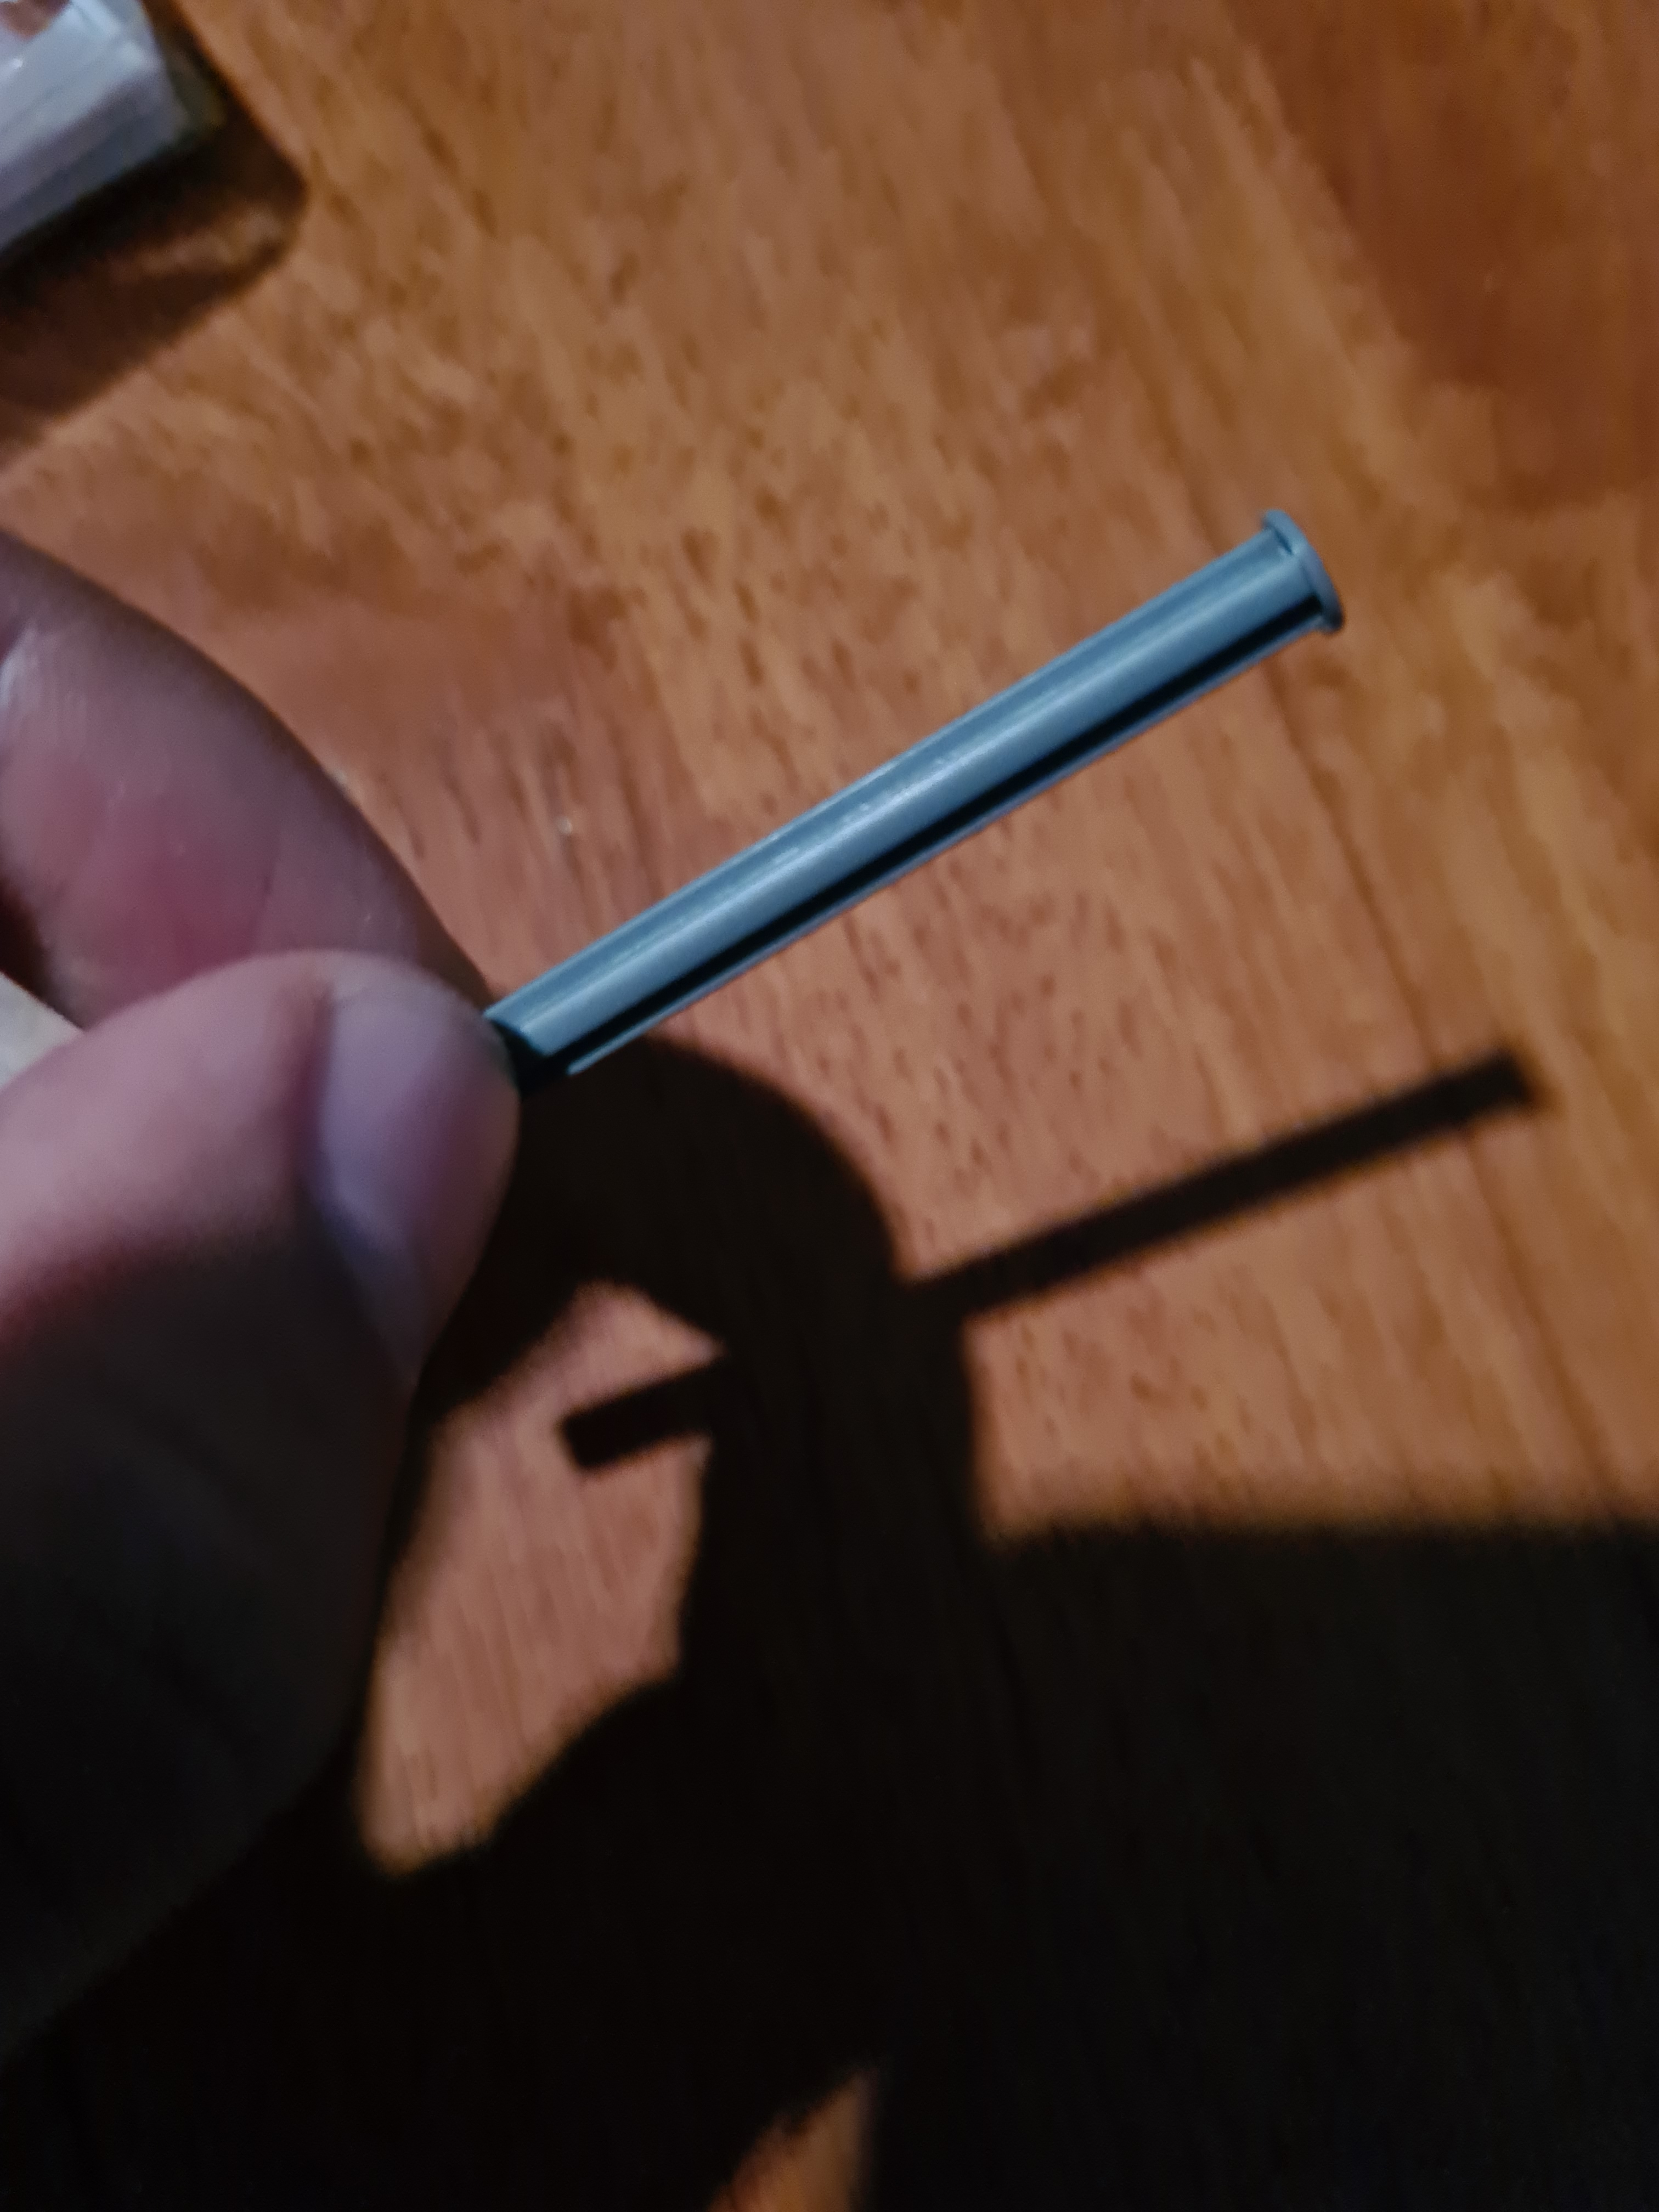Grau_lang: (460, 472, 1363, 1092)
